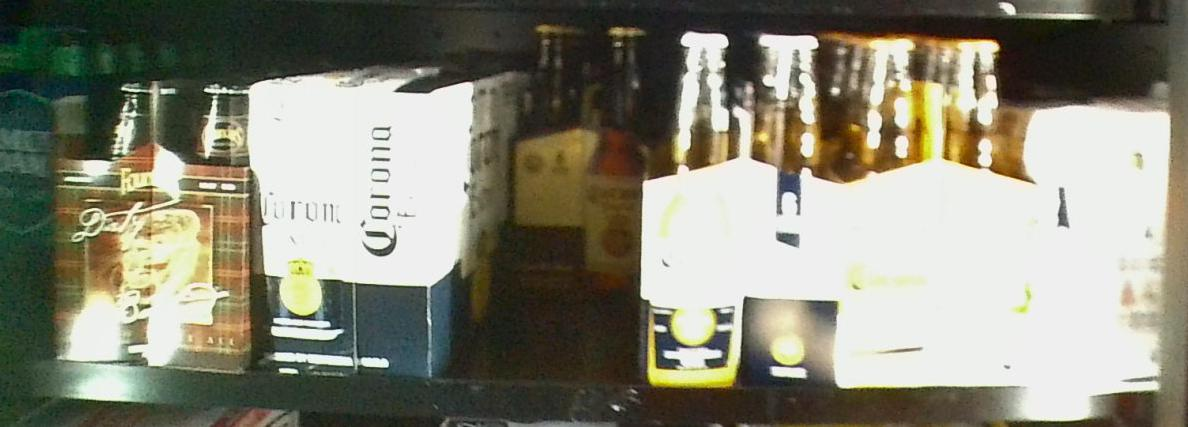bottle: (250, 79, 510, 373), (644, 23, 847, 385), (851, 23, 1027, 388), (47, 86, 247, 368), (1030, 110, 1163, 388), (518, 25, 634, 295)
